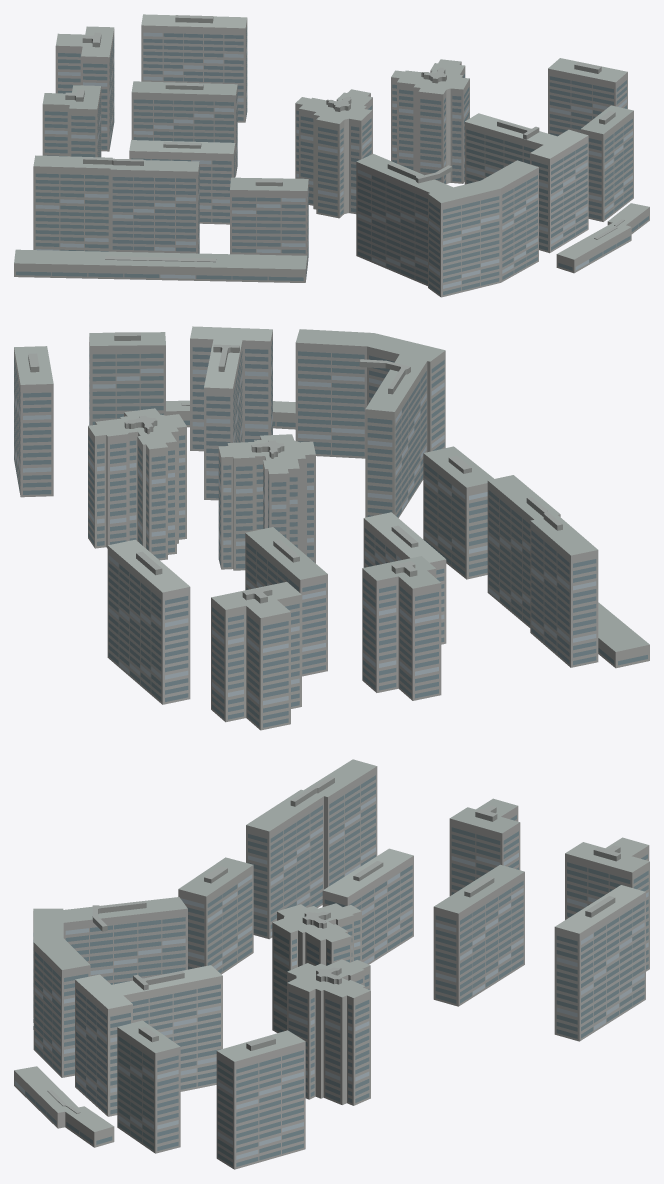
The model's file is apt-a13881701.glb.
3 views of the same model, one above another, from view 1: azimuth 30°, elevation 25°; view 2: azimuth 150°, elevation 25°; view 3: azimuth 270°, elevation 25° (orthographic). The views are drawn at different scales.
Parts seen in each view (by area): view 1: apt-a13881701; view 2: apt-a13881701; view 3: apt-a13881701.
Part boxes in pixels (bbox=[...]): apt-a13881701: bbox=[14, 14, 649, 297]; apt-a13881701: bbox=[14, 326, 649, 730]; apt-a13881701: bbox=[14, 759, 649, 1169].
Size of the model in its own units: 268 by 44 by 225.
